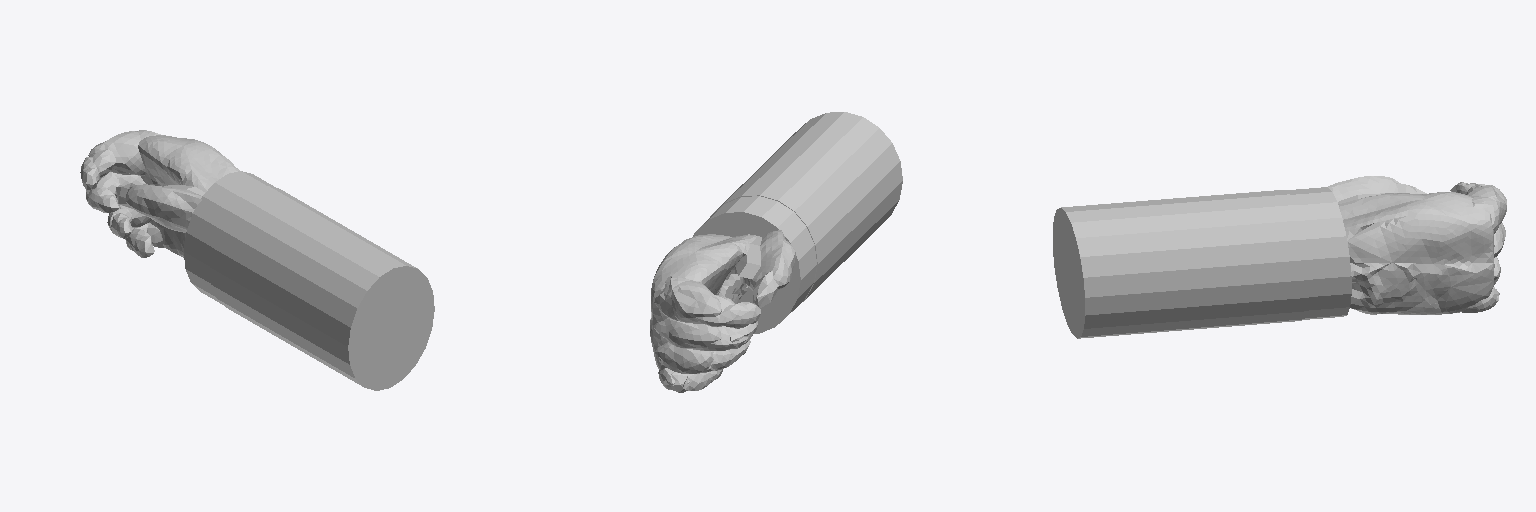
The model's file is hand.obj.
3 views of the same model, side by side, from view 1: azimuth 30°, elevation 25°; view 2: azimuth 150°, elevation 25°; view 3: azimuth 270°, elevation 25° (orthographic).
Visible parts, largest first — view 1: hand; view 2: hand; view 3: hand.
Part boxes in pixels (bbox=[...]): hand: bbox=[80, 130, 434, 390]; hand: bbox=[650, 112, 902, 392]; hand: bbox=[1053, 176, 1506, 338].
Bounding box in the file's own units: 0.746 × 0.5559 × 1.8.